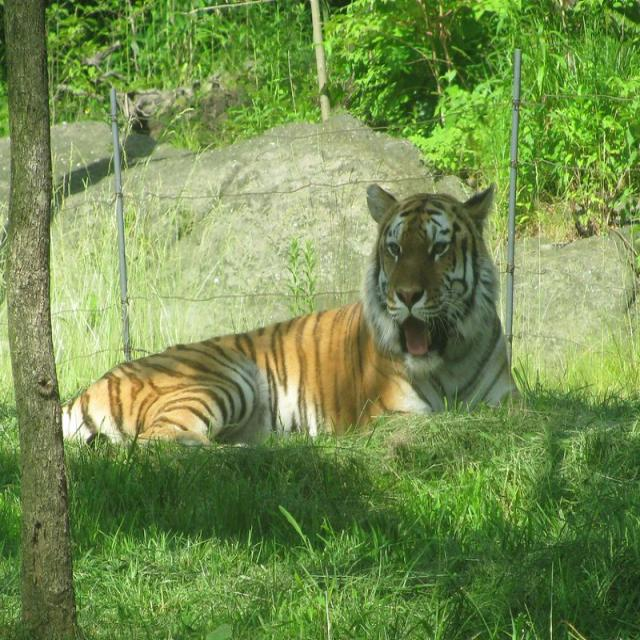Tiger: (61, 171, 517, 464)
